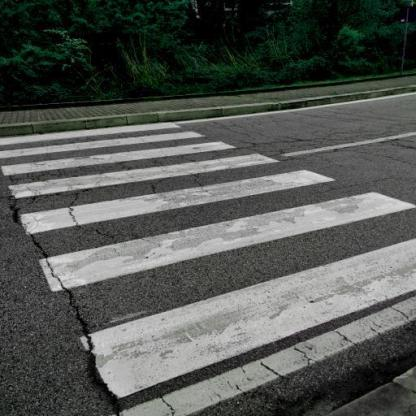crosswalk: (1, 166, 416, 300)
